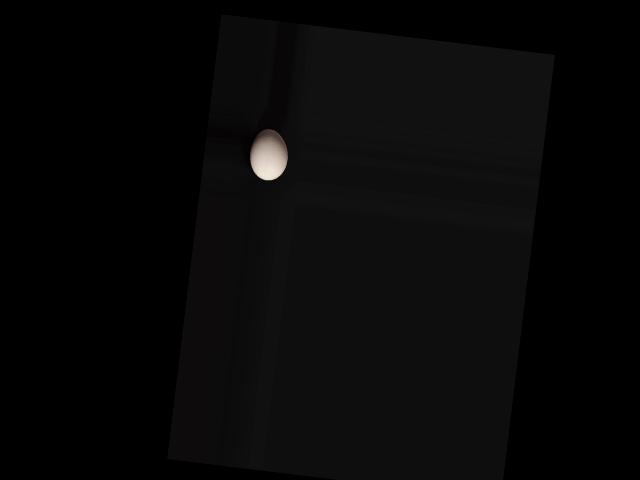egg: (247, 127, 290, 183)
